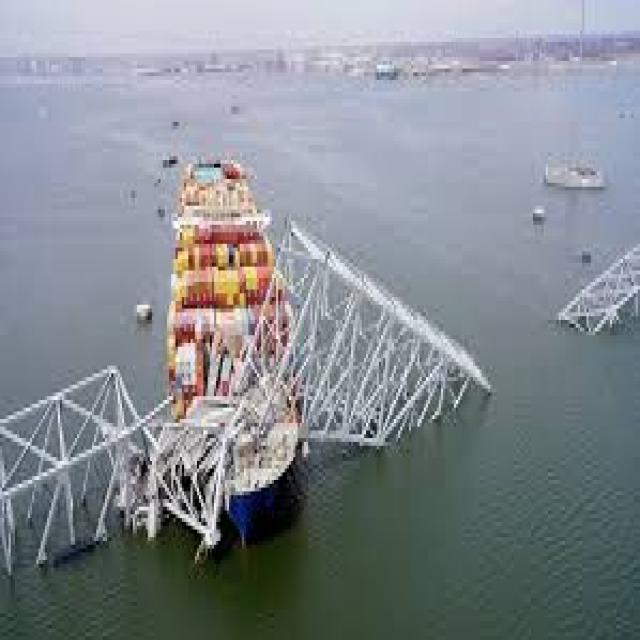bridge collapse: (84, 148, 640, 529)
